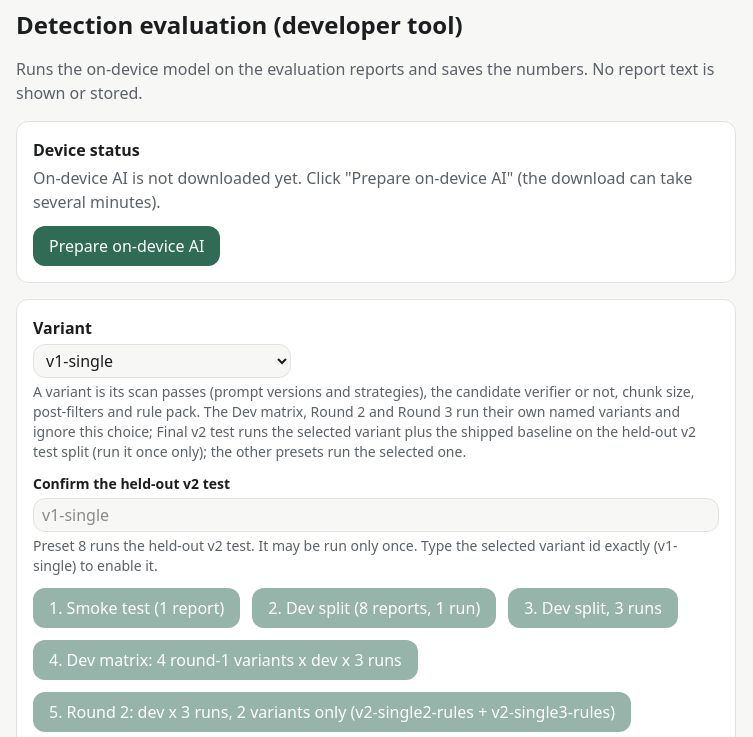
Test: EvalPage › offers to prepare the model when it is downloadable
Expected: the text "not downloaded yet" is shown, [33, 167, 693, 213]
Expected: the button "1. Smoke test (1 report)" is disabled, [33, 588, 240, 628]
Click the button "Prepare on-device AI" at [127, 246], box [33, 226, 220, 266]
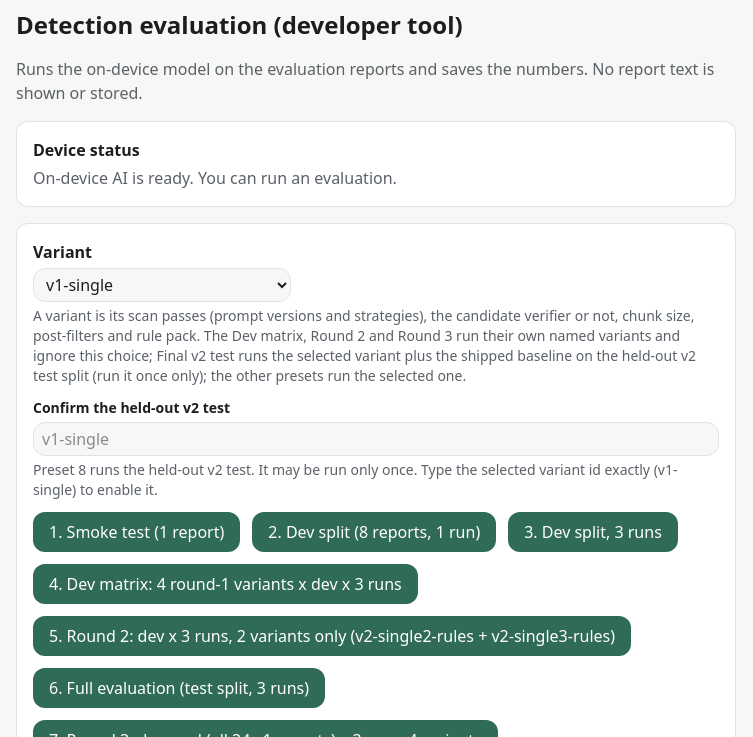
Expected: the button "1. Smoke test (1 report)" is enabled, [33, 512, 240, 552]
